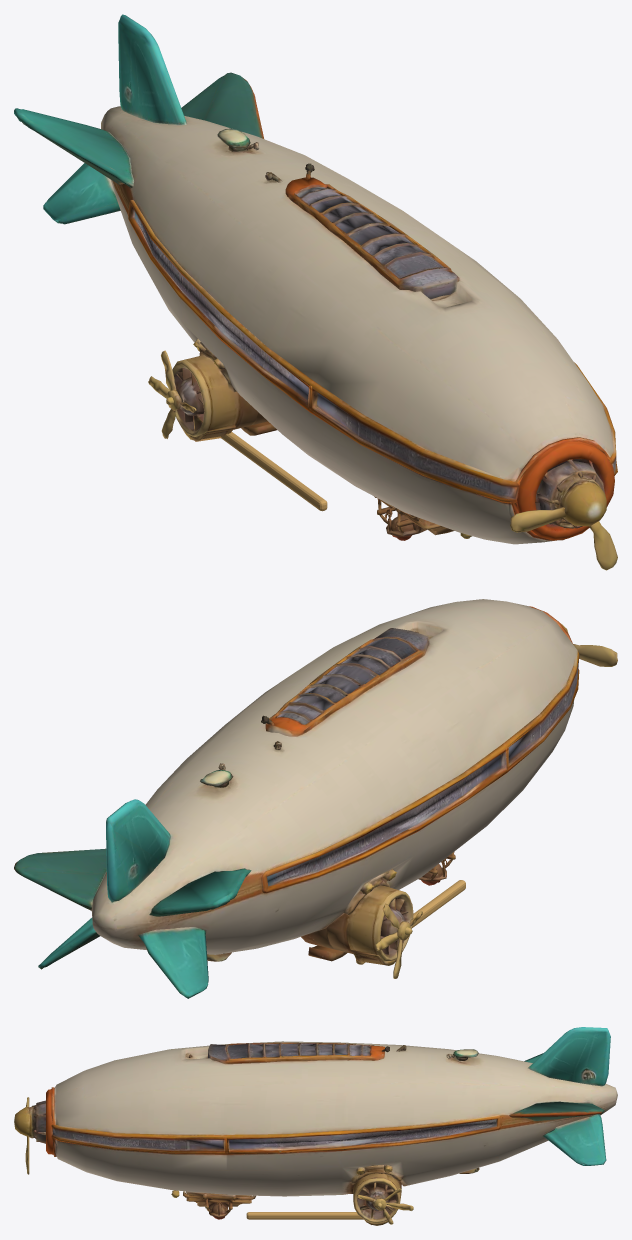
File: sky-airship.glb
3 renders of one model, top to bottom at view 1: azimuth 30°, elevation 25°; view 2: azimuth 150°, elevation 25°; view 3: azimuth 270°, elevation 25°, orthographic. The views are drawn at different scales.
Visible parts, largest first — view 1: Tripo_tripo_node_abf36a92-2602-4c61-9e1b-9b10dc26e311, Cabin rail; view 2: Tripo_tripo_node_abf36a92-2602-4c61-9e1b-9b10dc26e311, Cabin rail; view 3: Tripo_tripo_node_abf36a92-2602-4c61-9e1b-9b10dc26e311, Cabin rail.
Boxes of the visible parts, box(x1,y1,x2,y2) form: Tripo_tripo_node_abf36a92-2602-4c61-9e1b-9b10dc26e311: box(14, 14, 617, 570); Cabin rail: box(221, 431, 327, 511); Tripo_tripo_node_abf36a92-2602-4c61-9e1b-9b10dc26e311: box(14, 599, 617, 998); Cabin rail: box(356, 880, 465, 964); Tripo_tripo_node_abf36a92-2602-4c61-9e1b-9b10dc26e311: box(14, 1027, 617, 1225); Cabin rail: box(246, 1212, 363, 1219).
Size of the model in its own units: 0.3229 by 0.3346 by 1.
2 materials, 1 textured.
